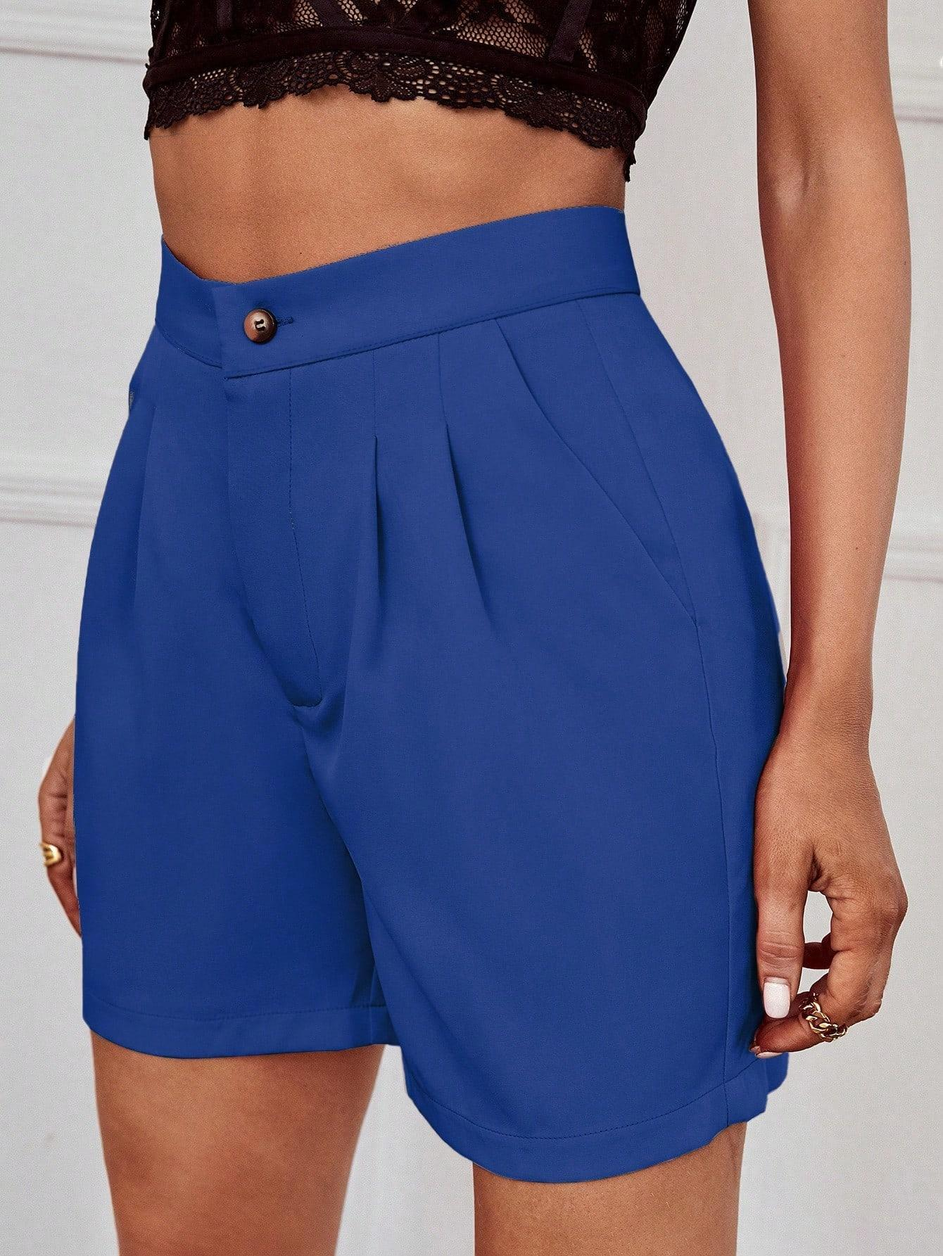Shorts: (60, 197, 800, 1186)
vest: (139, 0, 702, 183)
